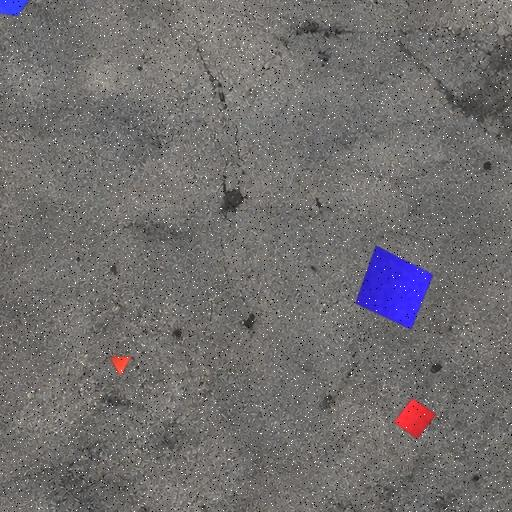BLUE_SQUARE: (354, 244, 434, 330)
RED_SQUARE: (394, 398, 436, 440)
